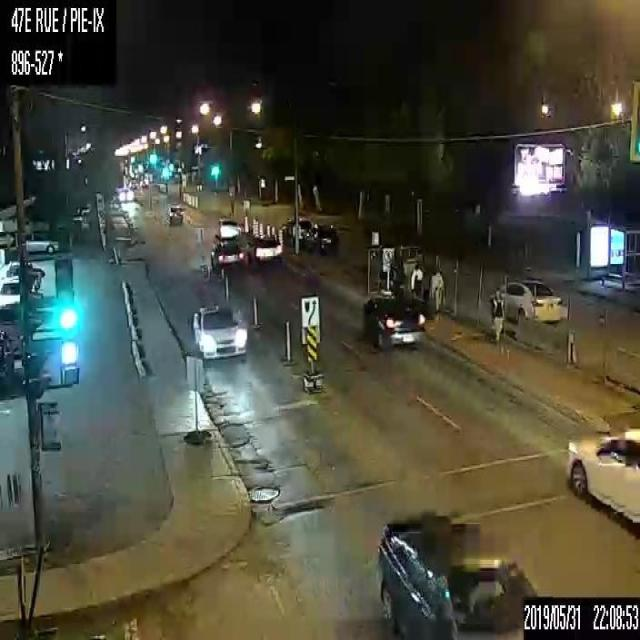construction: (285, 319, 290, 360), (253, 299, 256, 328), (225, 276, 228, 303)
pedestrian: (490, 287, 504, 352), (409, 262, 423, 310), (429, 269, 442, 320)
vehicle: (376, 512, 536, 639), (563, 424, 639, 525), (361, 293, 425, 351), (498, 277, 562, 327), (191, 302, 247, 358), (376, 244, 432, 299), (276, 217, 317, 250), (0, 302, 24, 357), (209, 238, 244, 273), (244, 234, 282, 266), (25, 228, 60, 255), (0, 331, 14, 392), (0, 261, 44, 278), (0, 273, 19, 304), (215, 215, 239, 238), (165, 204, 182, 223)
